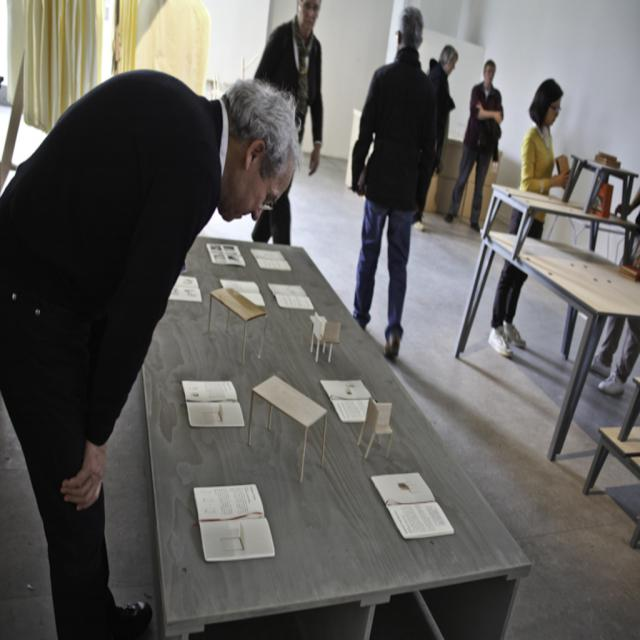desk: (143, 245, 532, 639)
person: (1, 66, 300, 628), (350, 7, 438, 361), (486, 77, 572, 358), (252, 1, 324, 243), (443, 60, 504, 228), (414, 45, 458, 226)
